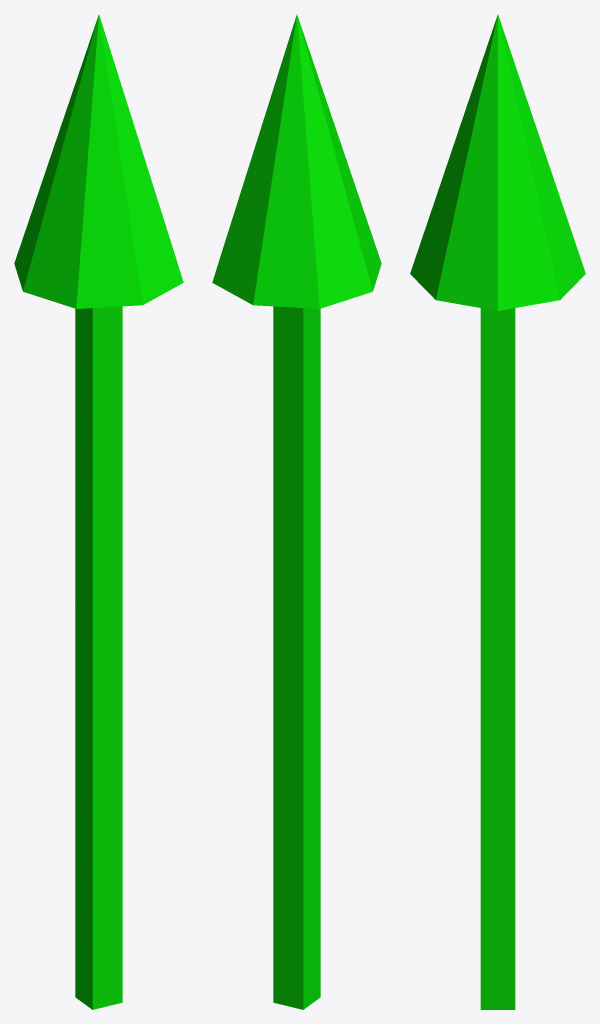
The model's file is translate_arrow_y.dae.
3 views of the same model, side by side, from view 1: azimuth 30°, elevation 25°; view 2: azimuth 150°, elevation 25°; view 3: azimuth 270°, elevation 25° (orthographic).
Visible parts, largest first — view 1: Arrow; view 2: Arrow; view 3: Arrow.
Part boxes in pixels (x1,y1,x2,y2): Arrow: [14, 14, 183, 1009]; Arrow: [212, 14, 381, 1009]; Arrow: [410, 14, 585, 1009].
Size of what is drawn, in the model's own units: 0.1613 by 0.1613 by 1.
